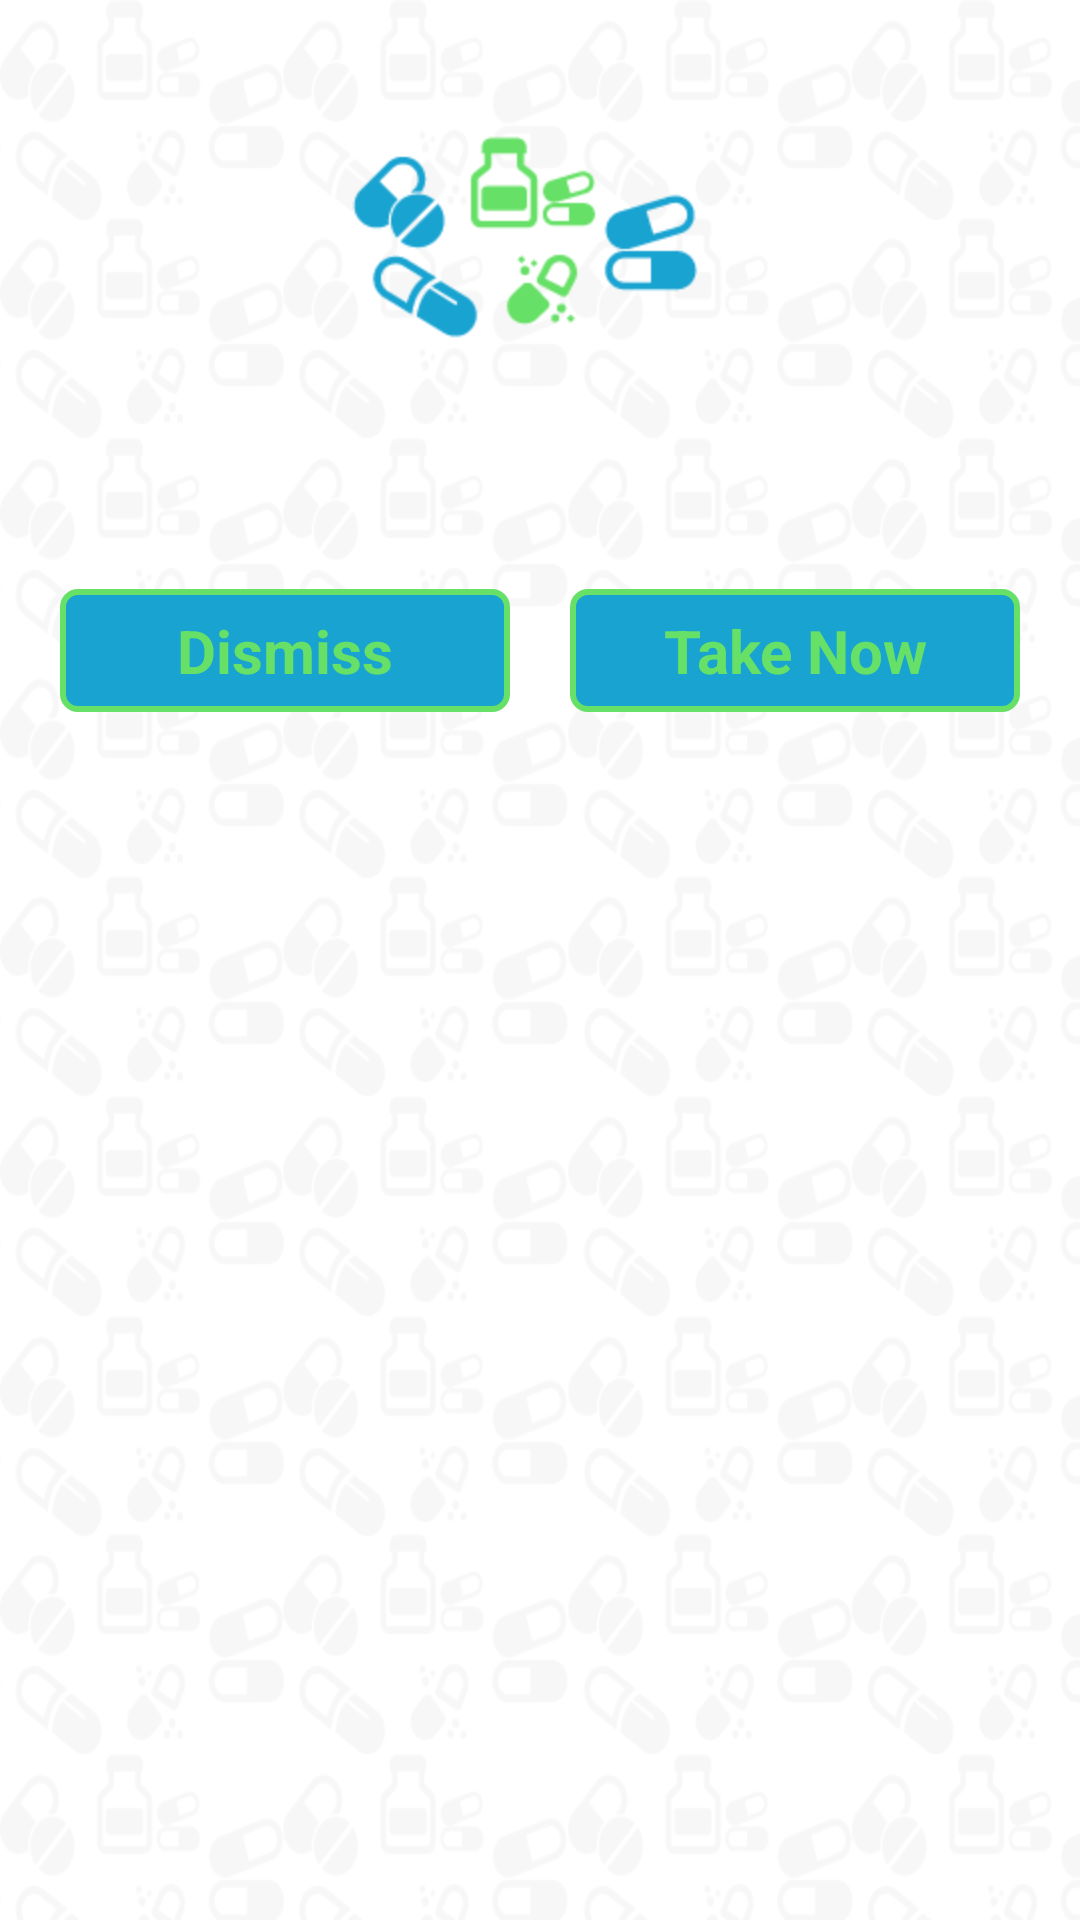

Where to tap for icons on this 1080px x 1920px app screen, as point (x, y):
medecine: point (525, 237)
